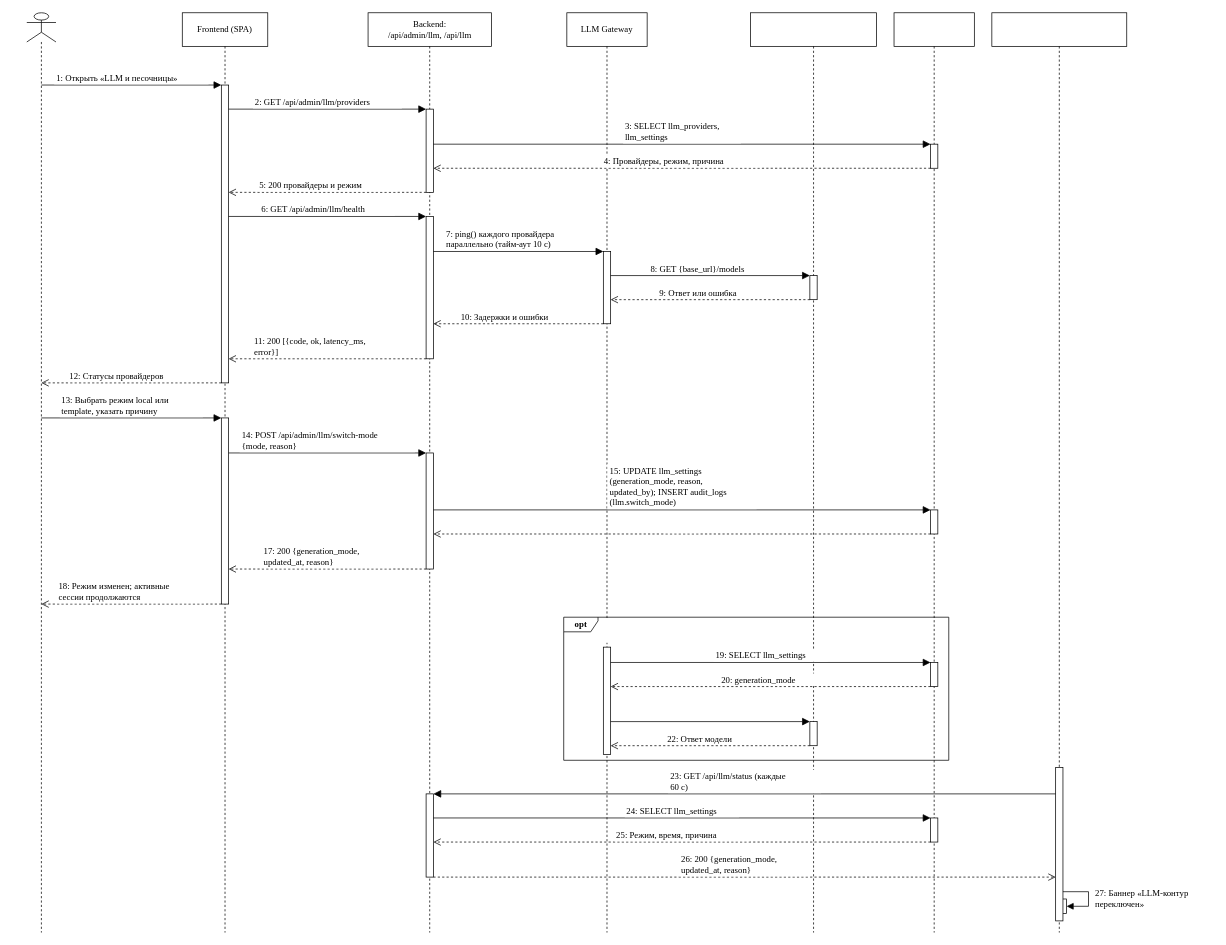
This 1226x945 diagram has some shape labels left out. The shapes that lost their labels are listed below. From the top down, each one's box as (x1, y1, x2, y2) in pixels, then its label:
(26, 12, 56, 933): Администратор
(750, 12, 877, 933): Провайдеры LLM (OpenAI-совместимые)
(893, 12, 974, 933): PostgreSQL
(991, 12, 1127, 933): Frontend преподавателя
(663, 520, 700, 533): 16: OK
(602, 619, 784, 642): [следующая генерация легенды или подсказка]
(636, 697, 784, 721): 21: local: запрос к локальной модели; template: вызова нет
